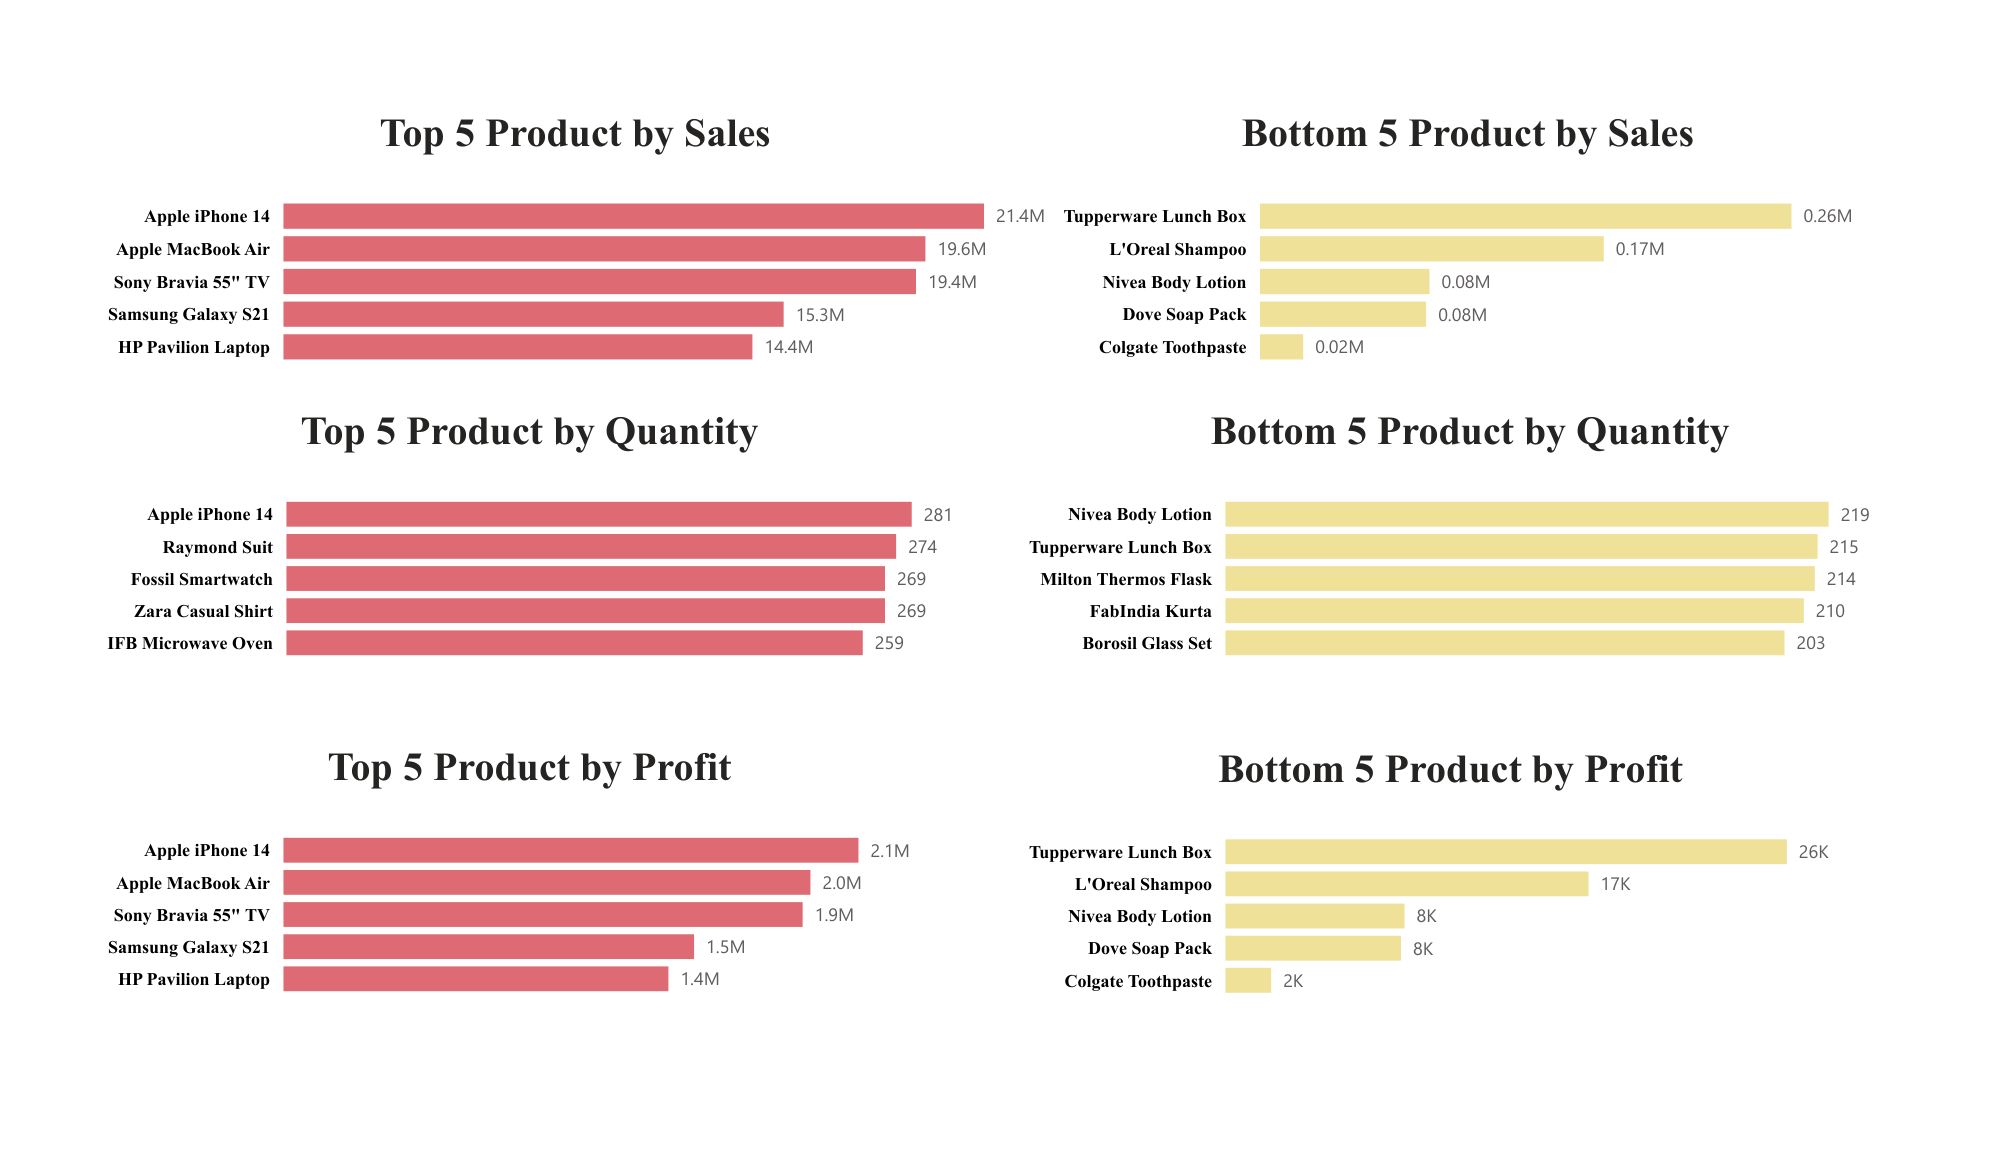

The dashboard page shown, as its layout file describes it:
{"tool":"powerbi","page":{"name":"Top/Bottom 5 Analysis","canvas":[1280,720],"ordinal":0},"visuals":[{"type":"barChart","title":"Top 5 Product by Sales","fields":{"Category":["Dim Product.Product Name"],"Y":["Sum(Fact Table.Net Sales  )"]},"box":[41.3,49,636.9,180.7],"z":0},{"type":"barChart","title":"Bottom 5 Product by Sales","fields":{"Category":["Dim Product.Product Name"],"Y":["Sum(Fact Table.Net Sales  )"]},"box":[678.3,49,552.7,180.7],"z":1000},{"type":"barChart","title":"Top 5 Product by Quantity","fields":{"Category":["Dim Product.Product Name"],"Y":["Sum(Fact Table.Units Sold)"]},"box":[41.3,248,575.7,179.1],"z":2000},{"type":"barChart","title":"Bottom 5 Product by Quantity","fields":{"Category":["Dim Product.Product Name"],"Y":["Sum(Fact Table.Units Sold)"]},"box":[655.3,248,601.7,179.1],"z":3000},{"type":"barChart","title":"Top 5 Product by Profit","fields":{"Category":["Dim Product.Product Name"],"Y":["Sum(Fact Table.Profit)"]},"box":[41.3,471.6,575.7,179.1],"z":4000},{"type":"barChart","title":"Bottom 5 Product by Profit","fields":{"Category":["Dim Product.Product Name"],"Y":["Sum(Fact Table.Profit)"]},"box":[655.3,473.1,575.7,179.1],"z":5000}]}

Visuals, with their boxes in screenshot pixels (x1, y1, x2, y2), scaled from the page's 1280x720 canvas onto the 1992x1152 screenshot:
"Top 5 Product by Sales" barChart: <box>64,78,1055,368</box>
"Bottom 5 Product by Sales" barChart: <box>1056,78,1916,368</box>
"Top 5 Product by Quantity" barChart: <box>64,397,960,683</box>
"Bottom 5 Product by Quantity" barChart: <box>1020,397,1956,683</box>
"Top 5 Product by Profit" barChart: <box>64,755,960,1041</box>
"Bottom 5 Product by Profit" barChart: <box>1020,757,1916,1044</box>
